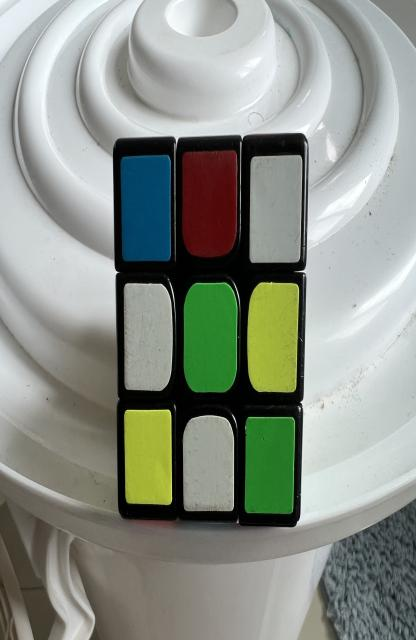Blue: (120, 155, 171, 262)
Green: (184, 282, 238, 393), (245, 417, 295, 513)
Red: (182, 150, 237, 258)
White: (249, 155, 302, 263), (124, 283, 173, 392), (183, 415, 234, 512)
Yellow: (247, 282, 299, 392), (124, 410, 172, 505)
